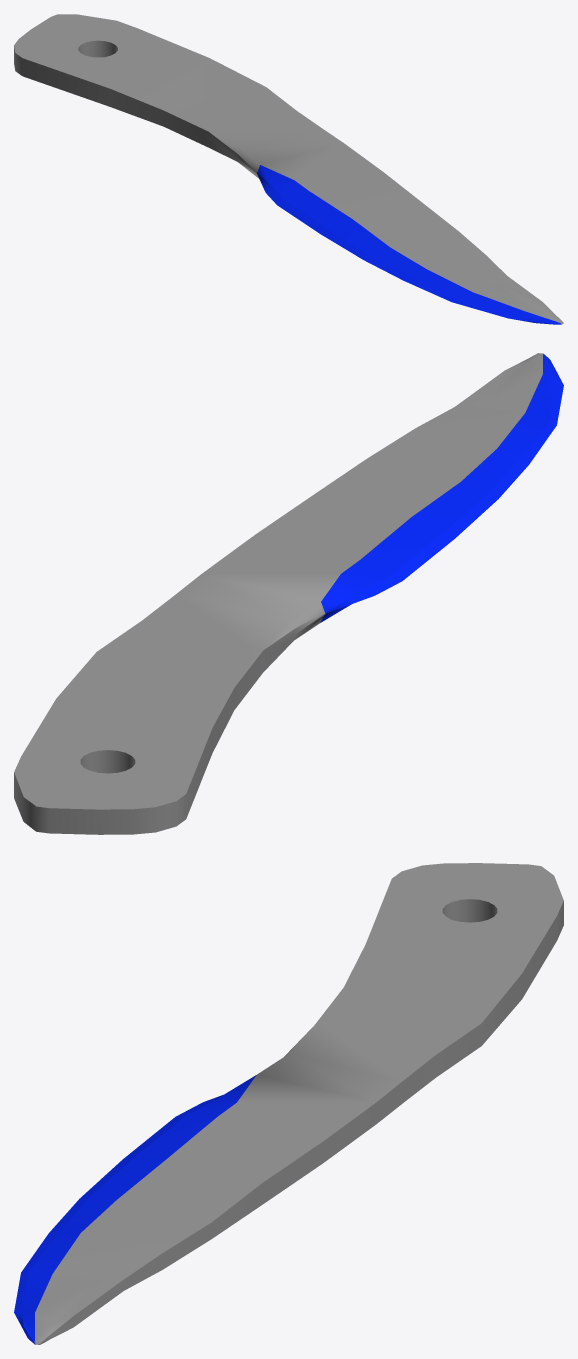
Rendered from ThrowingKnife.FBX.
The picture shows the model from 3 angles, top to bottom: view 1: azimuth 30°, elevation 25°; view 2: azimuth 150°, elevation 25°; view 3: azimuth 330°, elevation 25°; orthographic projection. The views are drawn at different scales.
Parts seen in each view (by area): view 1: Plane002; view 2: Plane002; view 3: Plane002.
Boxes of the visible parts, x1,y1,x2,y2 form: Plane002: (14, 14, 563, 324); Plane002: (14, 353, 563, 834); Plane002: (14, 863, 563, 1344).
Size of the model in its own units: 4.16 by 0.4671 by 20.09.
